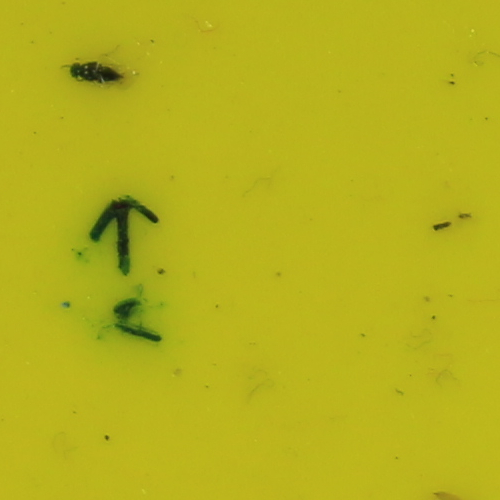Psyllaephagus: (70, 59, 125, 86)
